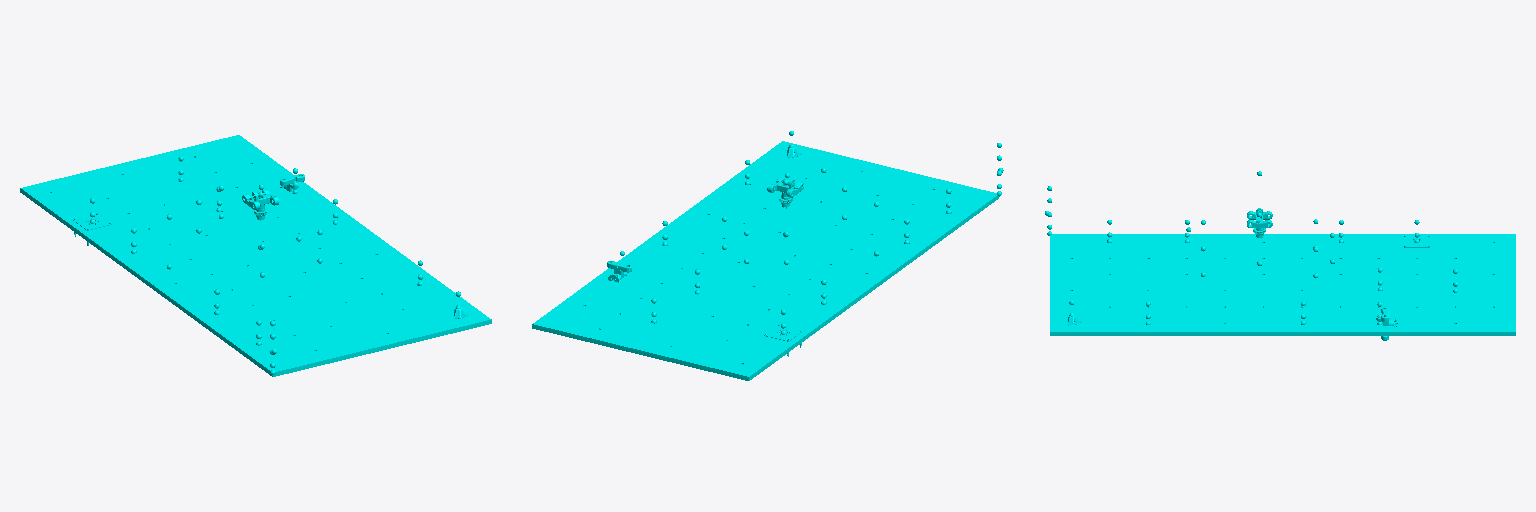
--- Facts derived from the render (not from the file) ---
Views: 3 orthographic renders of the robot side by side, from view 1: azimuth 30°, elevation 25°; view 2: azimuth 150°, elevation 25°; view 3: azimuth 270°, elevation 25°.
Model tetherbot0 with 122 links and 121 joints (112 fixed, 9 floating), rooted at map, posed every joint at zero.
Visible links, largest first — view 1: trianglemesh10, trianglemesh11; view 2: trianglemesh10, trianglemesh11; view 3: trianglemesh10.
Link boxes in pixels (x1,y1,x2,y2): trianglemesh10: (20, 135, 491, 376); trianglemesh11: (242, 189, 278, 220); trianglemesh10: (532, 141, 998, 380); trianglemesh11: (767, 177, 803, 208); trianglemesh10: (1050, 234, 1515, 335).
Bounding box of the posed robot: 0.92 × 1.84 × 0.3565 m (x, y, z).
Meshes: 21 distinct files referenced, 5 mesh visuals loaded (5 binary STL); not drawn: 16 (reference not matched to a file when rendering).

The robot description file, URDF, robot "tetherbot0":
<?xml version="1.0"?> 

<robot name="tetherbot0"> 

 <link name="map"/> 

 <link name="platform0"> 
 </link> 

 <joint name="map_to_platform0" type="floating"> 
  <parent link="map"/> 
  <child link="platform0"/> 
  <origin xyz="0.423 0.82 0.068" rpy="0.0 -0.0 1.5707963267948966"/> 
 </joint> 

 <link name="wall0"> 
 </link> 

 <joint name="map_to_wall0" type="fixed"> 
  <parent link="map"/> 
  <child link="wall0"/> 
  <origin xyz="0.0 0.0 0.0" rpy="0.0 -0.0 0.0"/> 
 </joint> 

 <link name="tetherforceset0"> 
 </link> 

 <joint name="map_to_tetherforceset0" type="fixed"> 
  <parent link="map"/> 
  <child link="tetherforceset0"/> 
  <origin xyz="0.0 0.0 0.0" rpy="0.0 -0.0 0.0"/> 
 </joint> 

 <link name="gripper0"> 
 </link> 

 <joint name="map_to_gripper0" type="floating"> 
  <parent link="map"/> 
  <child link="gripper0"/> 
  <origin xyz="0.0 0.0 0.0" rpy="0.0 -0.0 0.0"/> 
 </joint> 

 <link name="gripper1"> 
 </link> 

 <joint name="map_to_gripper1" type="floating"> 
  <parent link="map"/> 
  <child link="gripper1"/> 
  <origin xyz="0.0 0.0 0.0" rpy="0.0 -0.0 0.0"/> 
 </joint> 

 <link name="gripper2"> 
 </link> 

 <joint name="map_to_gripper2" type="floating"> 
  <parent link="map"/> 
  <child link="gripper2"/> 
  <origin xyz="0.0 0.0 0.0" rpy="0.0 -0.0 0.0"/> 
 </joint> 

 <link name="gripper3"> 
 </link> 

 <joint name="map_to_gripper3" type="floating"> 
  <parent link="map"/> 
  <child link="gripper3"/> 
  <origin xyz="0.0 0.0 0.0" rpy="0.0 -0.0 0.0"/> 
 </joint> 

 <link name="gripper4"> 
 </link> 

 <joint name="map_to_gripper4" type="floating"> 
  <parent link="map"/> 
  <child link="gripper4"/> 
  <origin xyz="0.0 0.0 0.0" rpy="0.0 -0.0 0.0"/> 
 </joint> 

 <link name="rpparm0"> 
 </link> 

 <joint name="platform0_to_rpparm0" type="fixed"> 
  <parent link="platform0"/> 
  <child link="rpparm0"/> 
  <origin xyz="0.0 0.0 0.167" rpy="0.0 -0.0 0.0"/> 
 </joint> 

 <link name="anchorpoint0"> 
  <visual> 
   <geometry> 
    <sphere radius="0.01"/> 
   </geometry> 
   <material name="Cyan"> 
    <color rgba="0 1.0 1.0 1.0"/> 
   </material> 
  </visual> 
 </link> 

 <joint name="platform0_to_anchorpoint0" type="fixed"> 
  <parent link="platform0"/> 
  <child link="anchorpoint0"/> 
  <origin xyz="0.285 0.0 0.008" rpy="0.0 -0.0 0.0"/> 
 </joint> 

 <link name="anchorpoint1"> 
  <visual> 
   <geometry> 
    <sphere radius="0.01"/> 
   </geometry> 
   <material name="Cyan"> 
    <color rgba="0 1.0 1.0 1.0"/> 
   </material> 
  </visual> 
 </link> 

 <joint name="platform0_to_anchorpoint1" type="fixed"> 
  <parent link="platform0"/> 
  <child link="anchorpoint1"/> 
  <origin xyz="0.22 -0.13 0.008" rpy="0.0 -0.0 0.0"/> 
 </joint> 

 <link name="anchorpoint2"> 
  <visual> 
   <geometry> 
    <sphere radius="0.01"/> 
   </geometry> 
   <material name="Cyan"> 
    <color rgba="0 1.0 1.0 1.0"/> 
   </material> 
  </visual> 
 </link> 

 <joint name="platform0_to_anchorpoint2" type="fixed"> 
  <parent link="platform0"/> 
  <child link="anchorpoint2"/> 
  <origin xyz="-0.22 -0.12 0.008" rpy="0.0 -0.0 0.0"/> 
 </joint> 

 <link name="anchorpoint3"> 
  <visual> 
   <geometry> 
    <sphere radius="0.01"/> 
   </geometry> 
   <material name="Cyan"> 
    <color rgba="0 1.0 1.0 1.0"/> 
   </material> 
  </visual> 
 </link> 

 <joint name="platform0_to_anchorpoint3" type="fixed"> 
  <parent link="platform0"/> 
  <child link="anchorpoint3"/> 
  <origin xyz="-0.22 0.12 0.008" rpy="0.0 -0.0 0.0"/> 
 </joint> 

 <link name="anchorpoint4"> 
  <visual> 
   <geometry> 
    <sphere radius="0.01"/> 
   </geometry> 
   <material name="Cyan"> 
    <color rgba="0 1.0 1.0 1.0"/> 
   </material> 
  </visual> 
 </link> 

 <joint name="platform0_to_anchorpoint4" type="fixed"> 
  <parent link="platform0"/> 
  <child link="anchorpoint4"/> 
  <origin xyz="0.22 0.13 0.008" rpy="0.0 -0.0 0.0"/> 
 </joint> 

 <link name="anchorpoint5"> 
  <visual> 
   <geometry> 
    <sphere radius="0.01"/> 
   </geometry> 
   <material name="Cyan"> 
    <color rgba="0 1.0 1.0 1.0"/> 
   </material> 
  </visual> 
 </link> 

 <joint name="platform0_to_anchorpoint5" type="fixed"> 
  <parent link="platform0"/> 
  <child link="anchorpoint5"/> 
  <origin xyz="0.285 0.0 0.121" rpy="0.0 -0.0 0.0"/> 
 </joint> 

 <link name="anchorpoint6"> 
  <visual> 
   <geometry> 
    <sphere radius="0.01"/> 
   </geometry> 
   <material name="Cyan"> 
    <color rgba="0 1.0 1.0 1.0"/> 
   </material> 
  </visual> 
 </link> 

 <joint name="platform0_to_anchorpoint6" type="fixed"> 
  <parent link="platform0"/> 
  <child link="anchorpoint6"/> 
  <origin xyz="0.22 -0.13 0.121" rpy="0.0 -0.0 0.0"/> 
 </joint> 

 <link name="anchorpoint7"> 
  <visual> 
   <geometry> 
    <sphere radius="0.01"/> 
   </geometry> 
   <material name="Cyan"> 
    <color rgba="0 1.0 1.0 1.0"/> 
   </material> 
  </visual> 
 </link> 

 <joint name="platform0_to_anchorpoint7" type="fixed"> 
  <parent link="platform0"/> 
  <child link="anchorpoint7"/> 
  <origin xyz="-0.22 -0.12 0.121" rpy="0.0 -0.0 0.0"/> 
 </joint> 

 <link name="anchorpoint8"> 
  <visual> 
   <geometry> 
    <sphere radius="0.01"/> 
   </geometry> 
   <material name="Cyan"> 
    <color rgba="0 1.0 1.0 1.0"/> 
   </material> 
  </visual> 
 </link> 

 <joint name="platform0_to_anchorpoint8" type="fixed"> 
  <parent link="platform0"/> 
  <child link="anchorpoint8"/> 
  <origin xyz="-0.22 0.12 0.121" rpy="0.0 -0.0 0.0"/> 
 </joint> 

 <link name="anchorpoint9"> 
  <visual> 
   <geometry> 
    <sphere radius="0.01"/> 
   </geometry> 
   <material name="Cyan"> 
    <color rgba="0 1.0 1.0 1.0"/> 
   </material> 
  </visual> 
 </link> 

 <joint name="platform0_to_anchorpoint9" type="fixed"> 
  <parent link="platform0"/> 
  <child link="anchorpoint9"/> 
  <origin xyz="0.22 0.13 0.121" rpy="0.0 -0.0 0.0"/> 
 </joint> 

 <link name="depthsensor0"> 
  <visual> 
   <geometry> 
    <sphere radius="0.01"/> 
   </geometry> 
   <material name="Cyan"> 
    <color rgba="0 1.0 1.0 1.0"/> 
   </material> 
  </visual> 
 </link> 

 <joint name="platform0_to_depthsensor0" type="fixed"> 
  <parent link="platform0"/> 
  <child link="depthsensor0"/> 
  <origin xyz="-0.27645 0.0 0.14625" rpy="3.141592653589793 1.2246467991473532e-16 3.141592653589793"/> 
 </joint> 

 <link name="trianglemesh15"> 
  <visual> 
   <geometry> 
    <mesh filename="package://tbotros_description/desc//trianglemesh15.stl" scale="1 1 1"/> 
   </geometry> 
   <material name="Cyan"> 
    <color rgba="0 1.0 1.0 1.0"/> 
   </material> 
  </visual> 
 </link> 

 <joint name="platform0_to_trianglemesh15" type="fixed"> 
  <parent link="platform0"/> 
  <child link="trianglemesh15"/> 
  <origin xyz="0.0 0.0 0.0" rpy="0.0 -0.0 0.0"/> 
 </joint> 

 <link name="rectanglewrenchset0"> 
 </link> 

 <joint name="platform0_to_rectanglewrenchset0" type="fixed"> 
  <parent link="platform0"/> 
  <child link="rectanglewrenchset0"/> 
  <origin xyz="0.0 0.0 0.0" rpy="0.0 -0.0 0.0"/> 
 </joint> 

 <link name="trianglemesh14"> 
  <visual> 
   <geometry> 
    <mesh filename="package://tbotros_description/desc//trianglemesh14.stl" scale="1 1 1"/> 
   </geometry> 
   <material name="Cyan"> 
    <color rgba="0 1.0 1.0 1.0"/> 
   </material> 
  </visual> 
 </link> 

 <joint name="rpparm0_to_trianglemesh14" type="fixed"> 
  <parent link="rpparm0"/> 
  <child link="trianglemesh14"/> 
  <origin xyz="0.0 0.0 0.0" rpy="0.0 -0.0 0.0"/> 
 </joint> 

 <link name="revolutelink0"> 
 </link> 

 <joint name="rpparm0_to_revolutelink0" type="floating"> 
  <parent link="rpparm0"/> 
  <child link="revolutelink0"/> 
  <origin xyz="0.0 0.0 0.0435" rpy="-1.5707963267948966 -0.0 0.0"/> 
 </joint> 

 <link name="point14"> 
  <visual> 
   <geometry> 
    <sphere radius="0.01"/> 
   </geometry> 
   <material name="Cyan"> 
    <color rgba="0 1.0 1.0 1.0"/> 
   </material> 
  </visual> 
 </link> 

 <joint name="trianglemesh14_to_point14" type="fixed"> 
  <parent link="trianglemesh14"/> 
  <child link="point14"/> 
  <origin xyz="0.0 0.0 0.0" rpy="0.0 -0.0 0.0"/> 
 </joint> 

 <link name="trianglemesh11"> 
  <visual> 
   <geometry> 
    <mesh filename="package://tbotros_description/desc//trianglemesh11.stl" scale="1 1 1"/> 
   </geometry> 
   <material name="Cyan"> 
    <color rgba="0 1.0 1.0 1.0"/> 
   </material> 
  </visual> 
 </link> 

 <joint name="revolutelink0_to_trianglemesh11" type="fixed"> 
  <parent link="revolutelink0"/> 
  <child link="trianglemesh11"/> 
  <origin xyz="0.0 0.0 0.0" rpy="0.0 -0.0 0.0"/> 
 </joint> 

 <link name="prismaticlink0"> 
 </link> 

 <joint name="revolutelink0_to_prismaticlink0" type="floating"> 
  <parent link="revolutelink0"/> 
  <child link="prismaticlink0"/> 
  <origin xyz="0.0 0.0 0.381" rpy="-1.5707963267948966 -0.0 0.0"/> 
 </joint> 

 <link name="point11"> 
  <visual> 
   <geometry> 
    <sphere radius="0.01"/> 
   </geometry> 
   <material name="Cyan"> 
    <color rgba="0 1.0 1.0 1.0"/> 
   </material> 
  </visual> 
 </link> 

 <joint name="trianglemesh11_to_point11" type="fixed"> 
  <parent link="trianglemesh11"/> 
  <child link="point11"/> 
  <origin xyz="0.0 0.0 0.0" rpy="0.0 -0.0 0.0"/> 
 </joint> 

 <link name="trianglemesh12"> 
  <visual> 
   <geometry> 
    <mesh filename="package://tbotros_description/desc//trianglemesh12.stl" scale="1 1 1"/> 
   </geometry> 
   <material name="Cyan"> 
    <color rgba="0 1.0 1.0 1.0"/> 
   </material> 
  </visual> 
 </link> 

 <joint name="prismaticlink0_to_trianglemesh12" type="fixed"> 
  <parent link="prismaticlink0"/> 
  <child link="trianglemesh12"/> 
  <origin xyz="0.0 0.0 0.0" rpy="0.0 -0.0 0.0"/> 
 </joint> 

 <link name="prismaticlink1"> 
 </link> 

 <joint name="prismaticlink0_to_prismaticlink1" type="floating"> 
  <parent link="prismaticlink0"/> 
  <child link="prismaticlink1"/> 
  <origin xyz="0.0 0.0 0.198" rpy="0.0 -0.0 0.0"/> 
 </joint> 

 <link name="point12"> 
  <visual> 
   <geometry> 
    <sphere radius="0.01"/> 
   </geometry> 
   <material name="Cyan"> 
    <color rgba="0 1.0 1.0 1.0"/> 
   </material> 
  </visual> 
 </link> 

 <joint name="trianglemesh12_to_point12" type="fixed"> 
  <parent link="trianglemesh12"/> 
  <child link="point12"/> 
  <origin xyz="0.0 0.0 0.0" rpy="0.0 -0.0 0.0"/> 
 </joint> 

 <link name="trianglemesh13"> 
  <visual> 
   <geometry> 
    <mesh filename="package://tbotros_description/desc//trianglemesh13.stl" scale="1 1 1"/> 
   </geometry> 
   <material name="Cyan"> 
    <color rgba="0 1.0 1.0 1.0"/> 
   </material> 
  </visual> 
 </link> 

 <joint name="prismaticlink1_to_trianglemesh13" type="fixed"> 
  <parent link="prismaticlink1"/> 
  <child link="trianglemesh13"/> 
  <origin xyz="0.0 0.0 0.0" rpy="0.0 -0.0 0.0"/> 
 </joint> 

 <link name="point13"> 
  <visual> 
   <geometry> 
    <sphere radius="0.01"/> 
   </geometry> 
   <material name="Cyan"> 
    <color rgba="0 1.0 1.0 1.0"/> 
   </material> 
  </visual> 
 </link> 

 <joint name="trianglemesh13_to_point13" type="fixed"> 
  <parent link="trianglemesh13"/> 
  <child link="point13"/> 
  <origin xyz="0.0 0.0 0.0" rpy="0.0 -0.0 0.0"/> 
 </joint> 

 <link name="point15"> 
  <visual> 
   <geometry> 
    <sphere radius="0.01"/> 
   </geometry> 
   <material name="Cyan"> 
    <color rgba="0 1.0 1.0 1.0"/> 
   </material> 
  </visual> 
 </link> 

 <joint name="trianglemesh15_to_point15" type="fixed"> 
  <parent link="trianglemesh15"/> 
  <child link="point15"/> 
  <origin xyz="0.0 0.0 0.0" rpy="0.0 -0.0 0.0"/> 
 </joint> 

 <link name="hold0"> 
 </link> 

 <joint name="wall0_to_hold0" type="fixed"> 
  <parent link="wall0"/> 
  <child link="hold0"/> 
  <origin xyz="0.522 1.291 0.002" rpy="0.0 -0.0 0.0"/> 
 </joint> 

 <link name="hold1"> 
 </link> 

 <joint name="wall0_to_hold1" type="fixed"> 
  <parent link="wall0"/> 
  <child link="hold1"/> 
  <origin xyz="0.832 0.99 0.002" rpy="0.0 -0.0 0.0"/> 
 </joint> 

 <link name="hold2"> 
 </link> 

 <joint name="wall0_to_hold2" type="fixed"> 
  <parent link="wall0"/> 
  <child link="hold2"/> 
  <origin xyz="0.822 0.086 0.002" rpy="0.0 -0.0 0.0"/> 
 </joint> 

 <link name="hold3"> 
 </link> 

 <joint name="wall0_to_hold3" type="fixed"> 
  <parent link="wall0"/> 
  <child link="hold3"/> 
  <origin xyz="0.077 0.234 0.002" rpy="0.0 -0.0 0.0"/> 
 </joint> 

 <link name="hold4"> 
 </link> 

 <joint name="wall0_to_hold4" type="fixed"> 
  <parent link="wall0"/> 
  <child link="hold4"/> 
  <origin xyz="0.079 1.139 0.002" rpy="0.0 -0.0 0.0"/> 
 </joint> 

 <link name="hold5"> 
 </link> 

 <joint name="wall0_to_hold5" type="fixed"> 
  <parent link="wall0"/> 
  <child link="hold5"/> 
  <origin xyz="0.534 1.586 0.002" rpy="0.0 -0.0 0.0"/> 
 </joint> 

 <link name="hold6"> 
 </link> 

 <joint name="wall0_to_hold6" type="fixed"> 
  <parent link="wall0"/> 
  <child link="hold6"/> 
  <origin xyz="0.838 1.29 0.002" rpy="0.0 -0.0 0.0"/> 
 </joint> 

 <link name="hold7"> 
 </link> 

 <joint name="wall0_to_hold7" type="fixed"> 
  <parent link="wall0"/> 
  <child link="hold7"/> 
  <origin xyz="0.835 0.384 0.002" rpy="0.0 -0.0 0.0"/> 
 </joint> 

 <link name="hold8"> 
 </link> 

 <joint name="wall0_to_hold8" type="fixed"> 
  <parent link="wall0"/> 
  <child link="hold8"/> 
  <origin xyz="0.078 0.537 0.002" rpy="0.0 -0.0 0.0"/> 
 </joint> 

 <link name="hold9"> 
 </link> 

 <joint name="wall0_to_hold9" type="fixed"> 
  <parent link="wall0"/> 
  <child link="hold9"/> 
  <origin xyz="0.078 1.435 0.002" rpy="0.0 -0.0 0.0"/> 
 </joint> 

 <link name="trianglemesh10"> 
  <visual> 
   <geometry> 
    <mesh filename="package://tbotros_description/desc//trianglemesh10.stl" scale="1 1 1"/> 
   </geometry> 
   <material name="Cyan"> 
    <color rgba="0 1.0 1.0 1.0"/> 
   </material> 
  </visual> 
 </link> 

 <joint name="wall0_to_trianglemesh10" type="fixed"> 
  <parent link="wall0"/> 
  <child link="trianglemesh10"/> 
  <origin xyz="0.0 0.0 0.0" rpy="0.0 -0.0 0.0"/> 
 </joint> 

 <link name="hoverpoint0"> 
  <visual> 
   <geometry> 
    <sphere radius="0.01"/> 
   </geometry> 
   <material name="Cyan"> 
    <color rgba="0 1.0 1.0 1.0"/> 
   </material> 
  </visual> 
 </link> 

 <joint name="hold0_to_hoverpoint0" type="fixed"> 
  <parent link="hold0"/> 
  <child link="hoverpoint0"/> 
  <origin xyz="0.0 0.0 0.084" rpy="0.0 -0.0 0.0"/> 
 </joint> 

 <link name="grippoint0"> 
  <visual> 
   <geometry> 
    <sphere radius="0.01"/> 
   </geometry> 
   <material name="Cyan"> 
    <color rgba="0 1.0 1.0 1.0"/> 
   </material> 
  </visual> 
 </link> 

 <joint name="hold0_to_grippoint0" type="fixed"> 
  <parent link="hold0"/> 
  <child link="grippoint0"/> 
  <origin xyz="0.0 0.0 0.029" rpy="0.0 -0.0 0.0"/> 
 </joint> 

 <link name="trianglemesh0"> 
  <visual> 
   <geometry> 
    <mesh filename="package://tbotros_description/desc//trianglemesh0.stl" scale="1 1 1"/> 
   </geometry> 
   <material name="Cyan"> 
    <color rgba="0 1.0 1.0 1.0"/> 
   </material> 
  </visual> 
 </link> 

 <joint name="hold0_to_trianglemesh0" type="fixed"> 
  <parent link="hold0"/> 
  <child link="trianglemesh0"/> 
  <origin xyz="0.0 0.0 0.0" rpy="0.0 -0.0 0.0"/> 
 </joint> 

 <link name="point0"> 
  <visual> 
   <geometry> 
    <sphere radius="0.01"/> 
   </geometry> 
   <material name="Cyan"> 
    <color rgba="0 1.0 1.0 1.0"/> 
   </material> 
  </visual> 
 </link> 

 <joint name="trianglemesh0_to_point0" type="fixed"> 
  <parent link="trianglemesh0"/> 
  <child link="point0"/> 
  <origin xyz="0.0 0.0 0.0" rpy="0.0 -0.0 0.0"/> 
 </joint> 

 <link name="hoverpoint1"> 
  <visual> 
   <geometry> 
    <sphere radius="0.01"/> 
   </geometry> 
   <material name="Cyan"> 
    <color rgba="0 1.0 1.0 1.0"/> 
   </material> 
  </visual> 
 </link> 

 <joint name="hold1_to_hoverpoint1" type="fixed"> 
  <parent link="hold1"/> 
  <child link="hoverpoint1"/> 
  <origin xyz="0.0 0.0 0.084" rpy="0.0 -0.0 0.0"/> 
 </joint> 

 <link name="grippoint1"> 
  <visual> 
   <geometry> 
    <sphere radius="0.01"/> 
   </geometry> 
   <material name="Cyan"> 
    <color rgba="0 1.0 1.0 1.0"/> 
   </material> 
  </visual> 
 </link> 

 <joint name="hold1_to_grippoint1" type="fixed"> 
  <parent link="hold1"/> 
  <child link="grippoint1"/> 
  <origin xyz="0.0 0.0 0.029" rpy="0.0 -0.0 0.0"/> 
 </joint> 

 <link name="trianglemesh1"> 
  <visual> 
   <geometry> 
    <mesh filename="package://tbotros_description/desc//trianglemesh1.stl" scale="1 1 1"/> 
   </geometry> 
   <material name="Cyan"> 
    <color rgba="0 1.0 1.0 1.0"/> 
   </material> 
  </visual> 
 </link> 

 <joint name="hold1_to_trianglemesh1" type="fixed"> 
  <parent link="hold1"/> 
  <child link="trianglemesh1"/> 
  <origin xyz="0.0 0.0 0.0" rpy="0.0 -0.0 0.0"/> 
 </joint> 

 <link name="point1"> 
  <visual> 
   <geometry> 
    <sphere radius="0.01"/> 
   </geometry> 
   <material name="Cyan"> 
    <color rgba="0 1.0 1.0 1.0"/> 
   </material> 
  </visual> 
 </link> 

 <joint name="trianglemesh1_to_point1" type="fixed"> 
  <parent link="trianglemesh1"/> 
  <child link="point1"/> 
  <origin xyz="0.0 0.0 0.0" rpy="0.0 -0.0 0.0"/> 
 </joint> 

 <link name="hoverpoint2"> 
  <visual> 
   <geometry> 
    <sphere radius="0.01"/> 
   </geometry> 
   <material name="Cyan"> 
    <color rgba="0 1.0 1.0 1.0"/> 
   </material> 
  </visual> 
 </link> 

 <joint name="hold2_to_hoverpoint2" type="fixed"> 
  <parent link="hold2"/> 
  <child link="hoverpoint2"/> 
  <origin xyz="0.0 0.0 0.084" rpy="0.0 -0.0 0.0"/> 
 </joint> 

 <link name="grippoint2"> 
  <visual> 
   <geometry> 
    <sphere radius="0.01"/> 
   </geometry> 
   <material name="Cyan"> 
    <color rgba="0 1.0 1.0 1.0"/> 
   </material> 
  </visual> 
 </link> 

 <joint name="hold2_to_grippoint2" type="fixed"> 
  <parent link="hold2"/> 
  <child link="grippoint2"/> 
  <origin xyz="0.0 0.0 0.029" rpy="0.0 -0.0 0.0"/> 
 </joint> 

 <link name="trianglemesh2"> 
  <visual> 
   <geometry> 
    <mesh filename="package://tbotros_description/desc//trianglemesh2.stl" scale="1 1 1"/> 
   </geometry> 
   <material name="Cyan"> 
    <color rgba="0 1.0 1.0 1.0"/> 
   </material> 
  </visual> 
 </link> 

 <joint name="hold2_to_trianglemesh2" type="fixed"> 
  <parent link="hold2"/> 
  <child link="trianglemesh2"/> 
  <origin xyz="0.0 0.0 0.0" rpy="0.0 -0.0 0.0"/> 
 </joint> 

 <link name="point2"> 
  <visual> 
   <geometry> 
    <sphere radius="0.01"/> 
   </geometry> 
   <material name="Cyan"> 
    <color rgba="0 1.0 1.0 1.0"/> 
   </material> 
  </visual> 
 </link> 

 <joint name="trianglemesh2_to_point2" type="fixed"> 
  <parent link="trianglemesh2"/> 
  <child link="point2"/> 
  <origin xyz="0.0 0.0 0.0" rpy="0.0 -0.0 0.0"/> 
 </joint> 

 <link name="hoverpoint3"> 
  <visual> 
   <geometry> 
    <sphere radius="0.01"/> 
   </geometry> 
   <material name="Cyan"> 
    <color rgba="0 1.0 1.0 1.0"/> 
   </material> 
  </visual> 
 </link> 

 <joint name="hold3_to_hoverpoint3" type="fixed"> 
  <parent link="hold3"/> 
  <child link="hoverpoint3"/> 
  <origin xyz="0.0 0.0 0.084" rpy="0.0 -0.0 0.0"/> 
 </joint> 

 <link name="grippoint3"> 
  <visual> 
   <geometry> 
    <sphere radius="0.01"/> 
   </geometry> 
   <material name="Cyan"> 
    <color rgba="0 1.0 1.0 1.0"/> 
   </material> 
  </visual> 
 </link> 

 <joint name="hold3_to_grippoint3" type="fixed"> 
  <parent link="hold3"/> 
  <child link="grippoint3"/> 
  <origin xyz="0.0 0.0 0.029" rpy="0.0 -0.0 0.0"/> 
 </joint> 

 <link name="trianglemesh3"> 
  <visual> 
   <geometry> 
    <mesh filename="package://tbotros_description/desc//trianglemesh3.stl" scale="1 1 1"/> 
   </geometry> 
   <material name="Cyan"> 
    <color rgba="0 1.0 1.0 1.0"/> 
   </material> 
  </visual> 
 </link> 

 <joint name="hold3_to_trianglemesh3" type="fixed"> 
  <parent link="hold3"/> 
  <child link="trianglemesh3"/> 
  <origin xyz="0.0 0.0 0.0" rpy="0.0 -0.0 0.0"/> 
 </joint> 

 <link name="point3"> 
  <visual> 
   <geometry> 
    <sphere radius="0.01"/> 
   </geometry> 
   <material name="Cyan"> 
    <color rgba="0 1.0 1.0 1.0"/> 
   </material> 
  </visual> 
 </link> 

 <joint name="trianglemesh3_to_point3" type="fixed"> 
  <parent link="trianglemesh3"/> 
  <child link="point3"/> 
  <origin xyz="0.0 0.0 0.0" rpy="0.0 -0.0 0.0"/> 
 </joint> 

 <link name="hoverpoint4"> 
  <visual> 
   <geometry> 
    <sphere radius="0.01"/> 
   </geometry> 
   <material name="Cyan"> 
    <color rgba="0 1.0 1.0 1.0"/> 
   </material> 
  </visual> 
 </link> 

 <joint name="hold4_to_hoverpoint4" type="fixed"> 
  <parent link="hold4"/> 
  <child link="hoverpoint4"/> 
  <origin xyz="0.0 0.0 0.084" rpy="0.0 -0.0 0.0"/> 
 </joint> 

 <link name="grippoint4"> 
  <visual> 
   <geometry> 
    <sphere radius="0.01"/> 
   </geometry> 
   <material name="Cyan"> 
    <color rgba="0 1.0 1.0 1.0"/> 
   </material> 
  </visual> 
 </link> 

 <joint name="hold4_to_grippoint4" type="fixed"> 
  <parent link="hold4"/> 
  <child link="grippoint4"/> 
  <origin xyz="0.0 0.0 0.029" rpy="0.0 -0.0 0.0"/> 
 </joint> 

 <link name="trianglemesh4"> 
  <visual> 
   <geometry> 
    <mesh filename="package://tbotros_description/desc//trianglemesh4.stl" scale="1 1 1"/> 
   </geometry> 
   <material name="Cyan"> 
    <color rgba="0 1.0 1.0 1.0"/> 
   </material> 
  </visual> 
 </link> 

 <joint name="hold4_to_trianglemesh4" type="fixed"> 
  <parent link="hold4"/> 
  <child link="trianglemesh4"/> 
  <origin xyz="0.0 0.0 0.0" rpy="0.0 -0.0 0.0"/> 
 </joint> 

 <link name="point4"> 
  <visual> 
   <geometry> 
    <sphere radius="0.01"/> 
   </geometry> 
   <material name="Cyan"> 
    <color rgba="0 1.0 1.0 1.0"/> 
   </material> 
  </visual> 
 </link> 

 <joint name="trianglemesh4_to_point4" type="fixed"> 
  <parent link="trianglemesh4"/> 
  <child link="point4"/> 
  <origin xyz="0.0 0.0 0.0" rpy="0.0 -0.0 0.0"/> 
 </joint> 

 <link name="hoverpoint5"> 
  <visual> 
   <geometry> 
    <sphere radius="0.01"/> 
   </geometry> 
   <material name="Cyan"> 
    <color rgba="0 1.0 1.0 1.0"/> 
   </material> 
  </visual> 
 </link> 

 <joint name="hold5_to_hoverpoint5" type="fixed"> 
  <parent link="hold5"/> 
  <child link="hoverpoint5"/> 
  <origin xyz="0.0 0.0 0.084" rpy="0.0 -0.0 0.0"/> 
 </joint> 

 <link name="grippoint5"> 
  <visual> 
   <geometry> 
    <sphere radius="0.01"/> 
   </geometry> 
   <material name="Cyan"> 
    <color rgba="0 1.0 1.0 1.0"/> 
   </material> 
  </visual> 
 </link> 

 <joint name="hold5_to_grippoint5" type="fixed"> 
  <parent link="hold5"/> 
  <child link="grippoint5"/> 
  <origin xyz="0.0 0.0 0.029" rpy="0.0 -0.0 0.0"/> 
 </joint> 

 <link name="trianglemesh5"> 
  <visual> 
   <geometry> 
    <mesh filename="package://tbotros_description/desc//trianglemesh5.stl" scale="1 1 1"/> 
   </geometry> 
   <material name="Cyan"> 
    <color rgba="0 1.0 1.0 1.0"/> 
   </material> 
  </visual> 
 </link> 

 <joint name="hold5_to_trianglemesh5" type="fixed"> 
  <parent link="hold5"/> 
  <child link="trianglemesh5"/> 
  <origin xyz="0.0 0.0 0.0" rpy="0.0 -0.0 0.0"/> 
 </joint> 

 <link name="point5"> 
  <visual> 
   <geometry> 
    <sphere radius="0.01"/> 
   </geometry> 
   <material name="Cyan"> 
    <color rgba="0 1.0 1.0 1.0"/> 
   </material> 
  </visual> 
 </link> 

 <joint name="trianglemesh5_to_point5" type="fixed"> 
  <parent link="trianglemesh5"/> 
  <child link="point5"/> 
  <origin xyz="0.0 0.0 0.0" rpy="0.0 -0.0 0.0"/> 
 </joint> 

 <link name="hoverpoint6"> 
  <visual> 
   <geometry> 
    <sphere radius="0.01"/> 
   </geometry> 
   <material name="Cyan"> 
    <color rgba="0 1.0 1.0 1.0"/> 
   </material> 
  </visual> 
 </link> 

 <joint name="hold6_to_hoverpoint6" type="fixed"> 
  <parent link="hold6"/> 
  <child link="hoverpoint6"/> 
  <origin xyz="0.0 0.0 0.084" rpy="0.0 -0.0 0.0"/> 
 </joint> 

 <link name="grippoint6"> 
  <visual> 
   <geometry> 
    <sphere radius="0.01"/> 
   </geometry> 
   <material name="Cyan"> 
    <color rgba="0 1.0 1.0 1.0"/> 
   </material> 
  </visual> 
 </link> 

 <joint name="hold6_to_grippoint6" type="fixed"> 
  <parent link="hold6"/> 
  <child link="grippoint6"/> 
  <origin xyz="0.0 0.0 0.029" rpy="0.0 -0.0 0.0"/> 
 </joint> 

 <link name="trianglemesh6"> 
  <visual> 
   <geometry> 
    <mesh filename="package://tbotros_description/desc//trianglemesh6.stl" scale="1 1 1"/> 
   </geometry> 
   <material name="Cyan"> 
    <color rgba="0 1.0 1.0 1.0"/> 
   </material> 
  </visual> 
 </link> 

 <joint name="hold6_to_trianglemesh6" type="fixed"> 
  <parent link="hold6"/> 
  <child link="trianglemesh6"/> 
  <origin xyz="0.0 0.0 0.0" rpy="0.0 -0.0 0.0"/> 
 </joint> 

 <link name="point6"> 
  <visual> 
   <geometry> 
    <sphere radius="0.01"/> 
   </geometry> 
   <material name="Cyan"> 
    <color rgba="0 1.0 1.0 1.0"/> 
   </material> 
  </visual> 
 </link> 

 <joint name="trianglemesh6_to_point6" type="fixed"> 
  <parent link="trianglemesh6"/> 
  <child link="point6"/> 
  <origin xyz="0.0 0.0 0.0" rpy="0.0 -0.0 0.0"/> 
 </joint> 

 <link name="hoverpoint7"> 
  <visual> 
   <geometry> 
    <sphere radius="0.01"/> 
   </geometry> 
   <material name="Cyan"> 
    <color rgba="0 1.0 1.0 1.0"/> 
   </material> 
  </visual> 
 </link> 

 <joint name="hold7_to_hoverpoint7" type="fixed"> 
  <parent link="hold7"/> 
  <child link="hoverpoint7"/> 
  <origin xyz="0.0 0.0 0.084" rpy="0.0 -0.0 0.0"/> 
 </joint> 

 <link name="grippoint7"> 
  <visual> 
   <geometry> 
    <sphere radius="0.01"/> 
   </geometry> 
   <material name="Cyan"> 
    <color rgba="0 1.0 1.0 1.0"/> 
   </material> 
  </visual> 
 </link> 

 <joint name="hold7_to_grippoint7" type="fixed"> 
  <parent link="hold7"/> 
  <child link="grippoint7"/> 
  <origin xyz="0.0 0.0 0.029" rpy="0.0 -0.0 0.0"/> 
 </joint> 

 <link name="trianglemesh7"> 
  <visual> 
   <geometry> 
    <mesh filename="package://tbotros_description/desc//trianglemesh7.stl" scale="1 1 1"/> 
   </geometry> 
   <material name="Cyan"> 
    <color rgba="0 1.0 1.0 1.0"/> 
   </material> 
  </visual> 
 </link> 

 <joint name="hold7_to_trianglemesh7" type="fixed"> 
  <parent link="hold7"/> 
  <child link="trianglemesh7"/> 
  <origin xyz="0.0 0.0 0.0" rpy="0.0 -0.0 0.0"/> 
 </joint> 

 <link name="point7"> 
  <visual> 
   <geometry> 
    <sphere radius="0.01"/> 
   </geometry> 
   <material name="Cyan"> 
    <color rgba="0 1.0 1.0 1.0"/> 
   </material> 
  </visual> 
 </link> 

 <joint name="trianglemesh7_to_point7" type="fixed"> 
  <parent link="trianglemesh7"/> 
  <child link="point7"/> 
  <origin xyz="0.0 0.0 0.0" rpy="0.0 -0.0 0.0"/> 
 </joint> 

 <link name="hoverpoint8"> 
  <visual> 
   <geometry> 
    <sphere radius="0.01"/> 
   </geometry> 
   <material name="Cyan"> 
    <color rgba="0 1.0 1.0 1.0"/> 
   </material> 
  </visual> 
 </link> 

 <joint name="hold8_to_hoverpoint8" type="fixed"> 
  <parent link="hold8"/> 
  <child link="hoverpoint8"/> 
  <origin xyz="0.0 0.0 0.084" rpy="0.0 -0.0 0.0"/> 
 </joint> 

 <link name="grippoint8"> 
  <visual> 
   <geometry> 
    <sphere radius="0.01"/> 
   </geometry> 
   <material name="Cyan"> 
    <color rgba="0 1.0 1.0 1.0"/> 
   </material> 
  </visual> 
 </link> 

 <joint name="hold8_to_grippoint8" type="fixed"> 
  <parent link="hold8"/> 
  <child link="grippoint8"/> 
  <origin xyz="0.0 0.0 0.029" rpy="0.0 -0.0 0.0"/> 
 </joint> 

 <link name="trianglemesh8"> 
  <visual> 
   <geometry> 
    <mesh filename="package://tbotros_description/desc//trianglemesh8.stl" scale="1 1 1"/> 
   </geometry> 
   <material name="Cyan"> 
    <color rgba="0 1.0 1.0 1.0"/> 
   </material> 
  </visual> 
 </link> 

 <joint name="hold8_to_trianglemesh8" type="fixed"> 
  <parent link="hold8"/> 
  <child link="trianglemesh8"/> 
  <origin xyz="0.0 0.0 0.0" rpy="0.0 -0.0 0.0"/> 
 </joint> 

 <link name="point8"> 
  <visual> 
   <geometry> 
    <sphere radius="0.01"/> 
   </geometry> 
   <material name="Cyan"> 
    <color rgba="0 1.0 1.0 1.0"/> 
   </material> 
  </visual> 
 </link> 

 <joint name="trianglemesh8_to_point8" type="fixed"> 
  <parent link="trianglemesh8"/> 
  <child link="point8"/> 
  <origin xyz="0.0 0.0 0.0" rpy="0.0 -0.0 0.0"/> 
 </joint> 

 <link name="hoverpoint9"> 
  <visual> 
   <geometry> 
    <sphere radius="0.01"/> 
   </geometry> 
   <material name="Cyan"> 
    <color rgba="0 1.0 1.0 1.0"/> 
   </material> 
  </visual> 
 </link> 

 <joint name="hold9_to_hoverpoint9" type="fixed"> 
  <parent link="hold9"/> 
  <child link="hoverpoint9"/> 
  <origin xyz="0.0 0.0 0.084" rpy="0.0 -0.0 0.0"/> 
 </joint> 

 <link name="grippoint9"> 
  <visual> 
   <geometry> 
    <sphere radius="0.01"/> 
   </geometry> 
   <material name="Cyan"> 
    <color rgba="0 1.0 1.0 1.0"/> 
   </material> 
  </visual> 
 </link> 

 <joint name="hold9_to_grippoint9" type="fixed"> 
  <parent link="hold9"/> 
  <child link="grippoint9"/> 
  <origin xyz="0.0 0.0 0.029" rpy="0.0 -0.0 0.0"/> 
 </joint> 

 <link name="trianglemesh9"> 
  <visual> 
   <geometry> 
    <mesh filename="package://tbotros_description/desc//trianglemesh9.stl" scale="1 1 1"/> 
   </geometry> 
   <material name="Cyan"> 
    <color rgba="0 1.0 1.0 1.0"/> 
   </material> 
  </visual> 
 </link> 

 <joint name="hold9_to_trianglemesh9" type="fixed"> 
  <parent link="hold9"/> 
  <child link="trianglemesh9"/> 
  <origin xyz="0.0 0.0 0.0" rpy="0.0 -0.0 0.0"/> 
 </joint> 

 <link name="point9"> 
  <visual> 
   <geometry> 
    <sphere radius="0.01"/> 
   </geometry> 
   <material name="Cyan"> 
    <color rgba="0 1.0 1.0 1.0"/> 
   </material> 
  </visual> 
 </link> 

 <joint name="trianglemesh9_to_point9" type="fixed"> 
  <parent link="trianglemesh9"/> 
  <child link="point9"/> 
  <origin xyz="0.0 0.0 0.0" rpy="0.0 -0.0 0.0"/> 
 </joint> 

 <link name="point10"> 
  <visual> 
   <geometry> 
    <sphere radius="0.01"/> 
   </geometry> 
   <material name="Cyan"> 
    <color rgba="0 1.0 1.0 1.0"/> 
   </material> 
  </visual> 
 </link> 

 <joint name="trianglemesh10_to_point10" type="fixed"> 
  <parent link="trianglemesh10"/> 
  <child link="point10"/> 
  <origin xyz="0.0 0.0 0.0" rpy="0.0 -0.0 0.0"/> 
 </joint> 

 <link name="hoverpoint10"> 
  <visual> 
   <geometry> 
    <sphere radius="0.01"/> 
   </geometry> 
   <material name="Cyan"> 
    <color rgba="0 1.0 1.0 1.0"/> 
   </material> 
  </visual> 
 </link> 

 <joint name="gripper0_to_hoverpoint10" type="fixed"> 
  <parent link="gripper0"/> 
  <child link="hoverpoint10"/> 
  <origin xyz="0.0 0.0 0.195" rpy="0.0 -0.0 0.0"/> 
 </joint> 

 <link name="grippoint10"> 
  <visual> 
   <geometry> 
    <sphere radius="0.01"/> 
   </geometry> 
   <material name="Cyan"> 
    <color rgba="0 1.0 1.0 1.0"/> 
   </material> 
  </visual> 
 </link> 

 <joint name="gripper0_to_grippoint10" type="fixed"> 
  <parent link="gripper0"/> 
  <child link="grippoint10"/> 
  <origin xyz="0.0 0.0 0.029" rpy="0.0 -0.0 0.0"/> 
 </joint> 

 <link name="anchorpoint10"> 
  <visual> 
   <geometry> 
    <sphere radius="0.01"/> 
   </geometry> 
   <material name="Cyan"> 
    <color rgba="0 1.0 1.0 1.0"/> 
   </material> 
  </visual> 
 </link> 

 <joint name="gripper0_to_anchorpoint10" type="fixed"> 
  <parent link="gripper0"/> 
  <child link="anchorpoint10"/> 
  <origin xyz="0.0 0.0 0.0815" rpy="0.0 -0.0 0.0"/> 
 </joint> 

 <link name="dockpoint0"> 
  <visual> 
   <geometry> 
    <sphere radius="0.01"/> 
   </geometry> 
   <material name="Cyan"> 
    <color rgba="0 1.0 1.0 1.0"/> 
   </material> 
  </visual> 
 </link> 

 <joint name="gripper0_to_dockpoint0" type="fixed"> 
  <parent link="gripper0"/> 
  <child link="dockpoint0"/> 
  <origin xyz="0.0 0.0 0.143" rpy="3.141592653589793 -0.0 0.0"/> 
 </joint> 

 <link name="marker0"> 
  <visual> 
   <geometry> 
    <sphere radius="0.01"/> 
   </geometry> 
   <material name="Cyan"> 
    <color rgba="0 1.0 1.0 1.0"/> 
   </material> 
  </visual> 
 </link> 

 <joint name="gripper0_to_marker0" type="fixed"> 
  <parent link="gripper0"/> 
  <child link="marker0"/> 
  <origin xyz="0.0 -0.011 0.089" rpy="1.5707963267948966 -0.0 0.0"/> 
 </joint> 

 <link name="trianglemesh16"> 
  <visual> 
   <geometry> 
    <mesh filename="package://tbotros_description/desc//trianglemesh16.stl" scale="1 1 1"/> 
   </geometry> 
   <material name="Cyan"> 
    <color rgba="0 1.0 1.0 1.0"/> 
   </material> 
  </visual> 
 </link> 

 <joint name="gripper0_to_trianglemesh16" type="fixed"> 
  <parent link="gripper0"/> 
  <child link="trianglemesh16"/> 
  <origin xyz="0.0 0.0 0.0" rpy="0.0 -0.0 0.0"/> 
 </joint> 

 <link name="point16"> 
  <visual> 
   <geometry> 
    <sphere radius="0.01"/> 
   </geometry> 
   <material name="Cyan"> 
    <color rgba="0 1.0 1.0 1.0"/> 
   </material> 
  </visual> 
 </link> 

 <joint name="trianglemesh16_to_point16" type="fixed"> 
  <parent link="trianglemesh16"/> 
  <child link="point16"/> 
  <origin xyz="0.0 0.0 0.0" rpy="0.0 -0.0 0.0"/> 
 </joint> 

 <link name="hoverpoint11"> 
  <visual> 
   <geometry> 
    <sphere radius="0.01"/> 
   </geometry> 
   <material name="Cyan"> 
    <color rgba="0 1.0 1.0 1.0"/> 
   </material> 
  </visual> 
 </link> 

 <joint name="gripper1_to_hoverpoint11" type="fixed"> 
  <parent link="gripper1"/> 
  <child link="hoverpoint11"/> 
  <origin xyz="0.0 0.0 0.195" rpy="0.0 -0.0 0.0"/> 
 </joint> 

 <link name="grippoint11"> 
  <visual> 
   <geometry> 
    <sphere radius="0.01"/> 
   </geometry> 
   <material name="Cyan"> 
    <color rgba="0 1.0 1.0 1.0"/> 
   </material> 
  </visual> 
 </link> 

 <joint name="gripper1_to_grippoint11" type="fixed"> 
  <parent link="gripper1"/> 
  <child link="grippoint11"/> 
  <origin xyz="0.0 0.0 0.029" rpy="0.0 -0.0 0.0"/> 
 </joint> 

 <link name="anchorpoint11"> 
  <visual> 
   <geometry> 
    <sphere radius="0.01"/> 
   </geometry> 
   <material name="Cyan"> 
    <color rgba="0 1.0 1.0 1.0"/> 
   </material> 
  </visual> 
 </link> 

 <joint name="gripper1_to_anchorpoint11" type="fixed"> 
  <parent link="gripper1"/> 
  <child link="anchorpoint11"/> 
  <origin xyz="0.0 0.0 0.0815" rpy="0.0 -0.0 0.0"/> 
 </joint> 

 <link name="dockpoint1"> 
  <visual> 
   <geometry> 
    <sphere radius="0.01"/> 
   </geometry> 
   <material name="Cyan"> 
    <color rgba="0 1.0 1.0 1.0"/> 
   </material> 
  </visual> 
 </link> 

 <joint name="gripper1_to_dockpoint1" type="fixed"> 
  <parent link="gripper1"/> 
  <child link="dockpoint1"/> 
  <origin xyz="0.0 0.0 0.143" rpy="3.141592653589793 -0.0 0.0"/> 
 </joint> 

 <link name="marker1"> 
  <visual> 
   <geometry> 
    <sphere radius="0.01"/> 
   </geometry> 
   <material name="Cyan"> 
    <color rgba="0 1.0 1.0 1.0"/> 
   </material> 
  </visual> 
 </link> 

 <joint name="gripper1_to_marker1" type="fixed"> 
  <parent link="gripper1"/> 
  <child link="marker1"/> 
  <origin xyz="0.0 -0.011 0.089" rpy="1.5707963267948966 -0.0 0.0"/> 
 </joint> 

 <link name="trianglemesh17"> 
  <visual> 
   <geometry> 
    <mesh filename="package://tbotros_description/desc//trianglemesh17.stl" scale="1 1 1"/> 
   </geometry> 
   <material name="Cyan"> 
    <color rgba="0 1.0 1.0 1.0"/> 
   </material> 
  </visual> 
 </link> 

 <joint name="gripper1_to_trianglemesh17" type="fixed"> 
  <parent link="gripper1"/> 
  <child link="trianglemesh17"/> 
  <origin xyz="0.0 0.0 0.0" rpy="0.0 -0.0 0.0"/> 
 </joint> 

 <link name="point17"> 
  <visual> 
   <geometry> 
    <sphere radius="0.01"/> 
   </geometry> 
   <material name="Cyan"> 
    <color rgba="0 1.0 1.0 1.0"/> 
   </material> 
  </visual> 
 </link> 

 <joint name="trianglemesh17_to_point17" type="fixed"> 
  <parent link="trianglemesh17"/> 
  <child link="point17"/> 
  <origin xyz="0.0 0.0 0.0" rpy="0.0 -0.0 0.0"/> 
 </joint> 

 <link name="hoverpoint12"> 
  <visual> 
   <geometry> 
    <sphere radius="0.01"/> 
   </geometry> 
   <material name="Cyan"> 
    <color rgba="0 1.0 1.0 1.0"/> 
   </material> 
  </visual> 
 </link> 

 <joint name="gripper2_to_hoverpoint12" type="fixed"> 
  <parent link="gripper2"/> 
  <child link="hoverpoint12"/> 
  <origin xyz="0.0 0.0 0.195" rpy="0.0 -0.0 0.0"/> 
 </joint> 

 <link name="grippoint12"> 
  <visual> 
   <geometry> 
    <sphere radius="0.01"/> 
   </geometry> 
   <material name="Cyan"> 
    <color rgba="0 1.0 1.0 1.0"/> 
   </material> 
  </visual> 
 </link> 

 <joint name="gripper2_to_grippoint12" type="fixed"> 
  <parent link="gripper2"/> 
  <child link="grippoint12"/> 
  <origin xyz="0.0 0.0 0.029" rpy="0.0 -0.0 0.0"/> 
 </joint> 

 <link name="anchorpoint12"> 
  <visual> 
   <geometry> 
    <sphere radius="0.01"/> 
   </geometry> 
   <material name="Cyan"> 
    <color rgba="0 1.0 1.0 1.0"/> 
   </material> 
  </visual> 
 </link> 

 <joint name="gripper2_to_anchorpoint12" type="fixed"> 
  <parent link="gripper2"/> 
  <child link="anchorpoint12"/> 
  <origin xyz="0.0 0.0 0.0815" rpy="0.0 -0.0 0.0"/> 
 </joint> 

 <link name="dockpoint2"> 
  <visual> 
   <geometry> 
    <sphere radius="0.01"/> 
   </geometry> 
   <material name="Cyan"> 
    <color rgba="0 1.0 1.0 1.0"/> 
   </material> 
  </visual> 
 </link> 

 <joint name="gripper2_to_dockpoint2" type="fixed"> 
  <parent link="gripper2"/> 
  <child link="dockpoint2"/> 
  <origin xyz="0.0 0.0 0.143" rpy="3.141592653589793 -0.0 0.0"/> 
 </joint> 

 <link name="marker2"> 
  <visual> 
   <geometry> 
    <sphere radius="0.01"/> 
   </geometry> 
   <material name="Cyan"> 
    <color rgba="0 1.0 1.0 1.0"/> 
   </material> 
  </visual> 
 </link> 

 <joint name="gripper2_to_marker2" type="fixed"> 
  <parent link="gripper2"/> 
  <child link="marker2"/> 
  <origin xyz="0.0 -0.011 0.089" rpy="1.5707963267948966 -0.0 0.0"/> 
 </joint> 

 <link name="trianglemesh18"> 
  <visual> 
   <geometry> 
    <mesh filename="package://tbotros_description/desc//trianglemesh18.stl" scale="1 1 1"/> 
   </geometry> 
   <material name="Cyan"> 
    <color rgba="0 1.0 1.0 1.0"/> 
   </material> 
  </visual> 
 </link> 

 <joint name="gripper2_to_trianglemesh18" type="fixed"> 
  <parent link="gripper2"/> 
  <child link="trianglemesh18"/> 
  <origin xyz="0.0 0.0 0.0" rpy="0.0 -0.0 0.0"/> 
 </joint> 

 <link name="point18"> 
  <visual> 
   <geometry> 
    <sphere radius="0.01"/> 
   </geometry> 
   <material name="Cyan"> 
    <color rgba="0 1.0 1.0 1.0"/> 
   </material> 
  </visual> 
 </link> 

 <joint name="trianglemesh18_to_point18" type="fixed"> 
  <parent link="trianglemesh18"/> 
  <child link="point18"/> 
  <origin xyz="0.0 0.0 0.0" rpy="0.0 -0.0 0.0"/> 
 </joint> 

 <link name="hoverpoint13"> 
  <visual> 
   <geometry> 
    <sphere radius="0.01"/> 
   </geometry> 
   <material name="Cyan"> 
    <color rgba="0 1.0 1.0 1.0"/> 
   </material> 
  </visual> 
 </link> 

 <joint name="gripper3_to_hoverpoint13" type="fixed"> 
  <parent link="gripper3"/> 
  <child link="hoverpoint13"/> 
  <origin xyz="0.0 0.0 0.195" rpy="0.0 -0.0 0.0"/> 
 </joint> 

 <link name="grippoint13"> 
  <visual> 
   <geometry> 
    <sphere radius="0.01"/> 
   </geometry> 
   <material name="Cyan"> 
    <color rgba="0 1.0 1.0 1.0"/> 
   </material> 
  </visual> 
 </link> 

 <joint name="gripper3_to_grippoint13" type="fixed"> 
  <parent link="gripper3"/> 
  <child link="grippoint13"/> 
  <origin xyz="0.0 0.0 0.029" rpy="0.0 -0.0 0.0"/> 
 </joint> 

 <link name="anchorpoint13"> 
  <visual> 
   <geometry> 
    <sphere radius="0.01"/> 
   </geometry> 
   <material name="Cyan"> 
    <color rgba="0 1.0 1.0 1.0"/> 
   </material> 
  </visual> 
 </link> 

 <joint name="gripper3_to_anchorpoint13" type="fixed"> 
  <parent link="gripper3"/> 
  <child link="anchorpoint13"/> 
  <origin xyz="0.0 0.0 0.0815" rpy="0.0 -0.0 0.0"/> 
 </joint> 

 <link name="dockpoint3"> 
  <visual> 
   <geometry> 
    <sphere radius="0.01"/> 
   </geometry> 
   <material name="Cyan"> 
    <color rgba="0 1.0 1.0 1.0"/> 
   </material> 
  </visual> 
 </link> 

 <joint name="gripper3_to_dockpoint3" type="fixed"> 
  <parent link="gripper3"/> 
  <child link="dockpoint3"/> 
  <origin xyz="0.0 0.0 0.143" rpy="3.141592653589793 -0.0 0.0"/> 
 </joint> 

 <link name="marker3"> 
  <visual> 
   <geometry> 
    <sphere radius="0.01"/> 
   </geometry> 
   <material name="Cyan"> 
    <color rgba="0 1.0 1.0 1.0"/> 
   </material> 
  </visual> 
 </link> 

 <joint name="gripper3_to_marker3" type="fixed"> 
  <parent link="gripper3"/> 
  <child link="marker3"/> 
  <origin xyz="0.0 -0.011 0.089" rpy="1.5707963267948966 -0.0 0.0"/> 
 </joint> 

 <link name="trianglemesh19"> 
  <visual> 
   <geometry> 
    <mesh filename="package://tbotros_description/desc//trianglemesh19.stl" scale="1 1 1"/> 
   </geometry> 
   <material name="Cyan"> 
    <color rgba="0 1.0 1.0 1.0"/> 
   </material> 
  </visual> 
 </link> 

 <joint name="gripper3_to_trianglemesh19" type="fixed"> 
  <parent link="gripper3"/> 
  <child link="trianglemesh19"/> 
  <origin xyz="0.0 0.0 0.0" rpy="0.0 -0.0 0.0"/> 
 </joint> 

 <link name="point19"> 
  <visual> 
   <geometry> 
    <sphere radius="0.01"/> 
   </geometry> 
   <material name="Cyan"> 
    <color rgba="0 1.0 1.0 1.0"/> 
   </material> 
  </visual> 
 </link> 

 <joint name="trianglemesh19_to_point19" type="fixed"> 
  <parent link="trianglemesh19"/> 
  <child link="point19"/> 
  <origin xyz="0.0 0.0 0.0" rpy="0.0 -0.0 0.0"/> 
 </joint> 

 <link name="hoverpoint14"> 
  <visual> 
   <geometry> 
    <sphere radius="0.01"/> 
   </geometry> 
   <material name="Cyan"> 
    <color rgba="0 1.0 1.0 1.0"/> 
   </material> 
  </visual> 
 </link> 

 <joint name="gripper4_to_hoverpoint14" type="fixed"> 
  <parent link="gripper4"/> 
  <child link="hoverpoint14"/> 
  <origin xyz="0.0 0.0 0.195" rpy="0.0 -0.0 0.0"/> 
 </joint> 

 <link name="grippoint14"> 
  <visual> 
   <geometry> 
    <sphere radius="0.01"/> 
   </geometry> 
   <material name="Cyan"> 
    <color rgba="0 1.0 1.0 1.0"/> 
   </material> 
  </visual> 
 </link> 

 <joint name="gripper4_to_grippoint14" type="fixed"> 
  <parent link="gripper4"/> 
  <child link="grippoint14"/> 
  <origin xyz="0.0 0.0 0.029" rpy="0.0 -0.0 0.0"/> 
 </joint> 

 <link name="anchorpoint14"> 
  <visual> 
   <geometry> 
    <sphere radius="0.01"/> 
   </geometry> 
   <material name="Cyan"> 
    <color rgba="0 1.0 1.0 1.0"/> 
   </material> 
  </visual> 
 </link> 

 <joint name="gripper4_to_anchorpoint14" type="fixed"> 
  <parent link="gripper4"/> 
  <child link="anchorpoint14"/> 
  <origin xyz="0.0 0.0 0.0815" rpy="0.0 -0.0 0.0"/> 
 </joint> 

 <link name="dockpoint4"> 
  <visual> 
   <geometry> 
    <sphere radius="0.01"/> 
   </geometry> 
   <material name="Cyan"> 
    <color rgba="0 1.0 1.0 1.0"/> 
   </material> 
  </visual> 
 </link> 

 <joint name="gripper4_to_dockpoint4" type="fixed"> 
  <parent link="gripper4"/> 
  <child link="dockpoint4"/> 
  <origin xyz="0.0 0.0 0.143" rpy="3.141592653589793 -0.0 0.0"/> 
 </joint> 

 <link name="marker4"> 
  <visual> 
   <geometry> 
    <sphere radius="0.01"/> 
   </geometry> 
   <material name="Cyan"> 
    <color rgba="0 1.0 1.0 1.0"/> 
   </material> 
  </visual> 
 </link> 

 <joint name="gripper4_to_marker4" type="fixed"> 
  <parent link="gripper4"/> 
  <child link="marker4"/> 
  <origin xyz="0.0 -0.011 0.089" rpy="1.5707963267948966 -0.0 0.0"/> 
 </joint> 

 <link name="trianglemesh20"> 
  <visual> 
   <geometry> 
    <mesh filename="package://tbotros_description/desc//trianglemesh20.stl" scale="1 1 1"/> 
   </geometry> 
   <material name="Cyan"> 
    <color rgba="0 1.0 1.0 1.0"/> 
   </material> 
  </visual> 
 </link> 

 <joint name="gripper4_to_trianglemesh20" type="fixed"> 
  <parent link="gripper4"/> 
  <child link="trianglemesh20"/> 
  <origin xyz="0.0 0.0 0.0" rpy="0.0 -0.0 0.0"/> 
 </joint> 

 <link name="point20"> 
  <visual> 
   <geometry> 
    <sphere radius="0.01"/> 
   </geometry> 
   <material name="Cyan"> 
    <color rgba="0 1.0 1.0 1.0"/> 
   </material> 
  </visual> 
 </link> 

 <joint name="trianglemesh20_to_point20" type="fixed"> 
  <parent link="trianglemesh20"/> 
  <child link="point20"/> 
  <origin xyz="0.0 0.0 0.0" rpy="0.0 -0.0 0.0"/> 
 </joint> 

</robot> 
